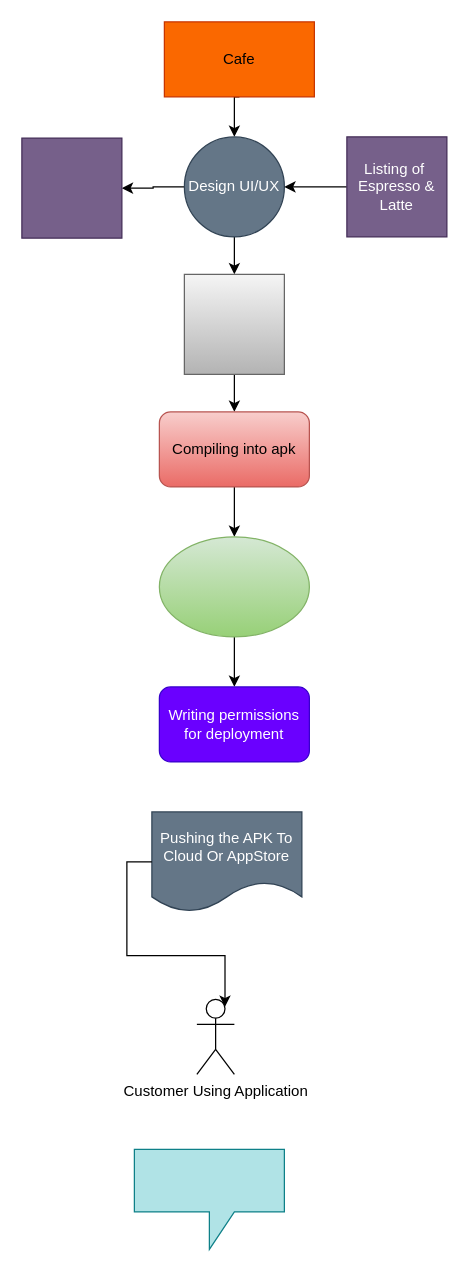
Some shapes in this 469 by 1271 pixel diagram are drawn without their labels. Here are the shapes that lost their labels. From the top down, the centre of each, then its label:
[71,187]: Customer sign UP/Sign IN
[233,323]: Checkout Pages & RTS
[233,586]: No bugs found
[208,1198]: No Feedback Recieved
